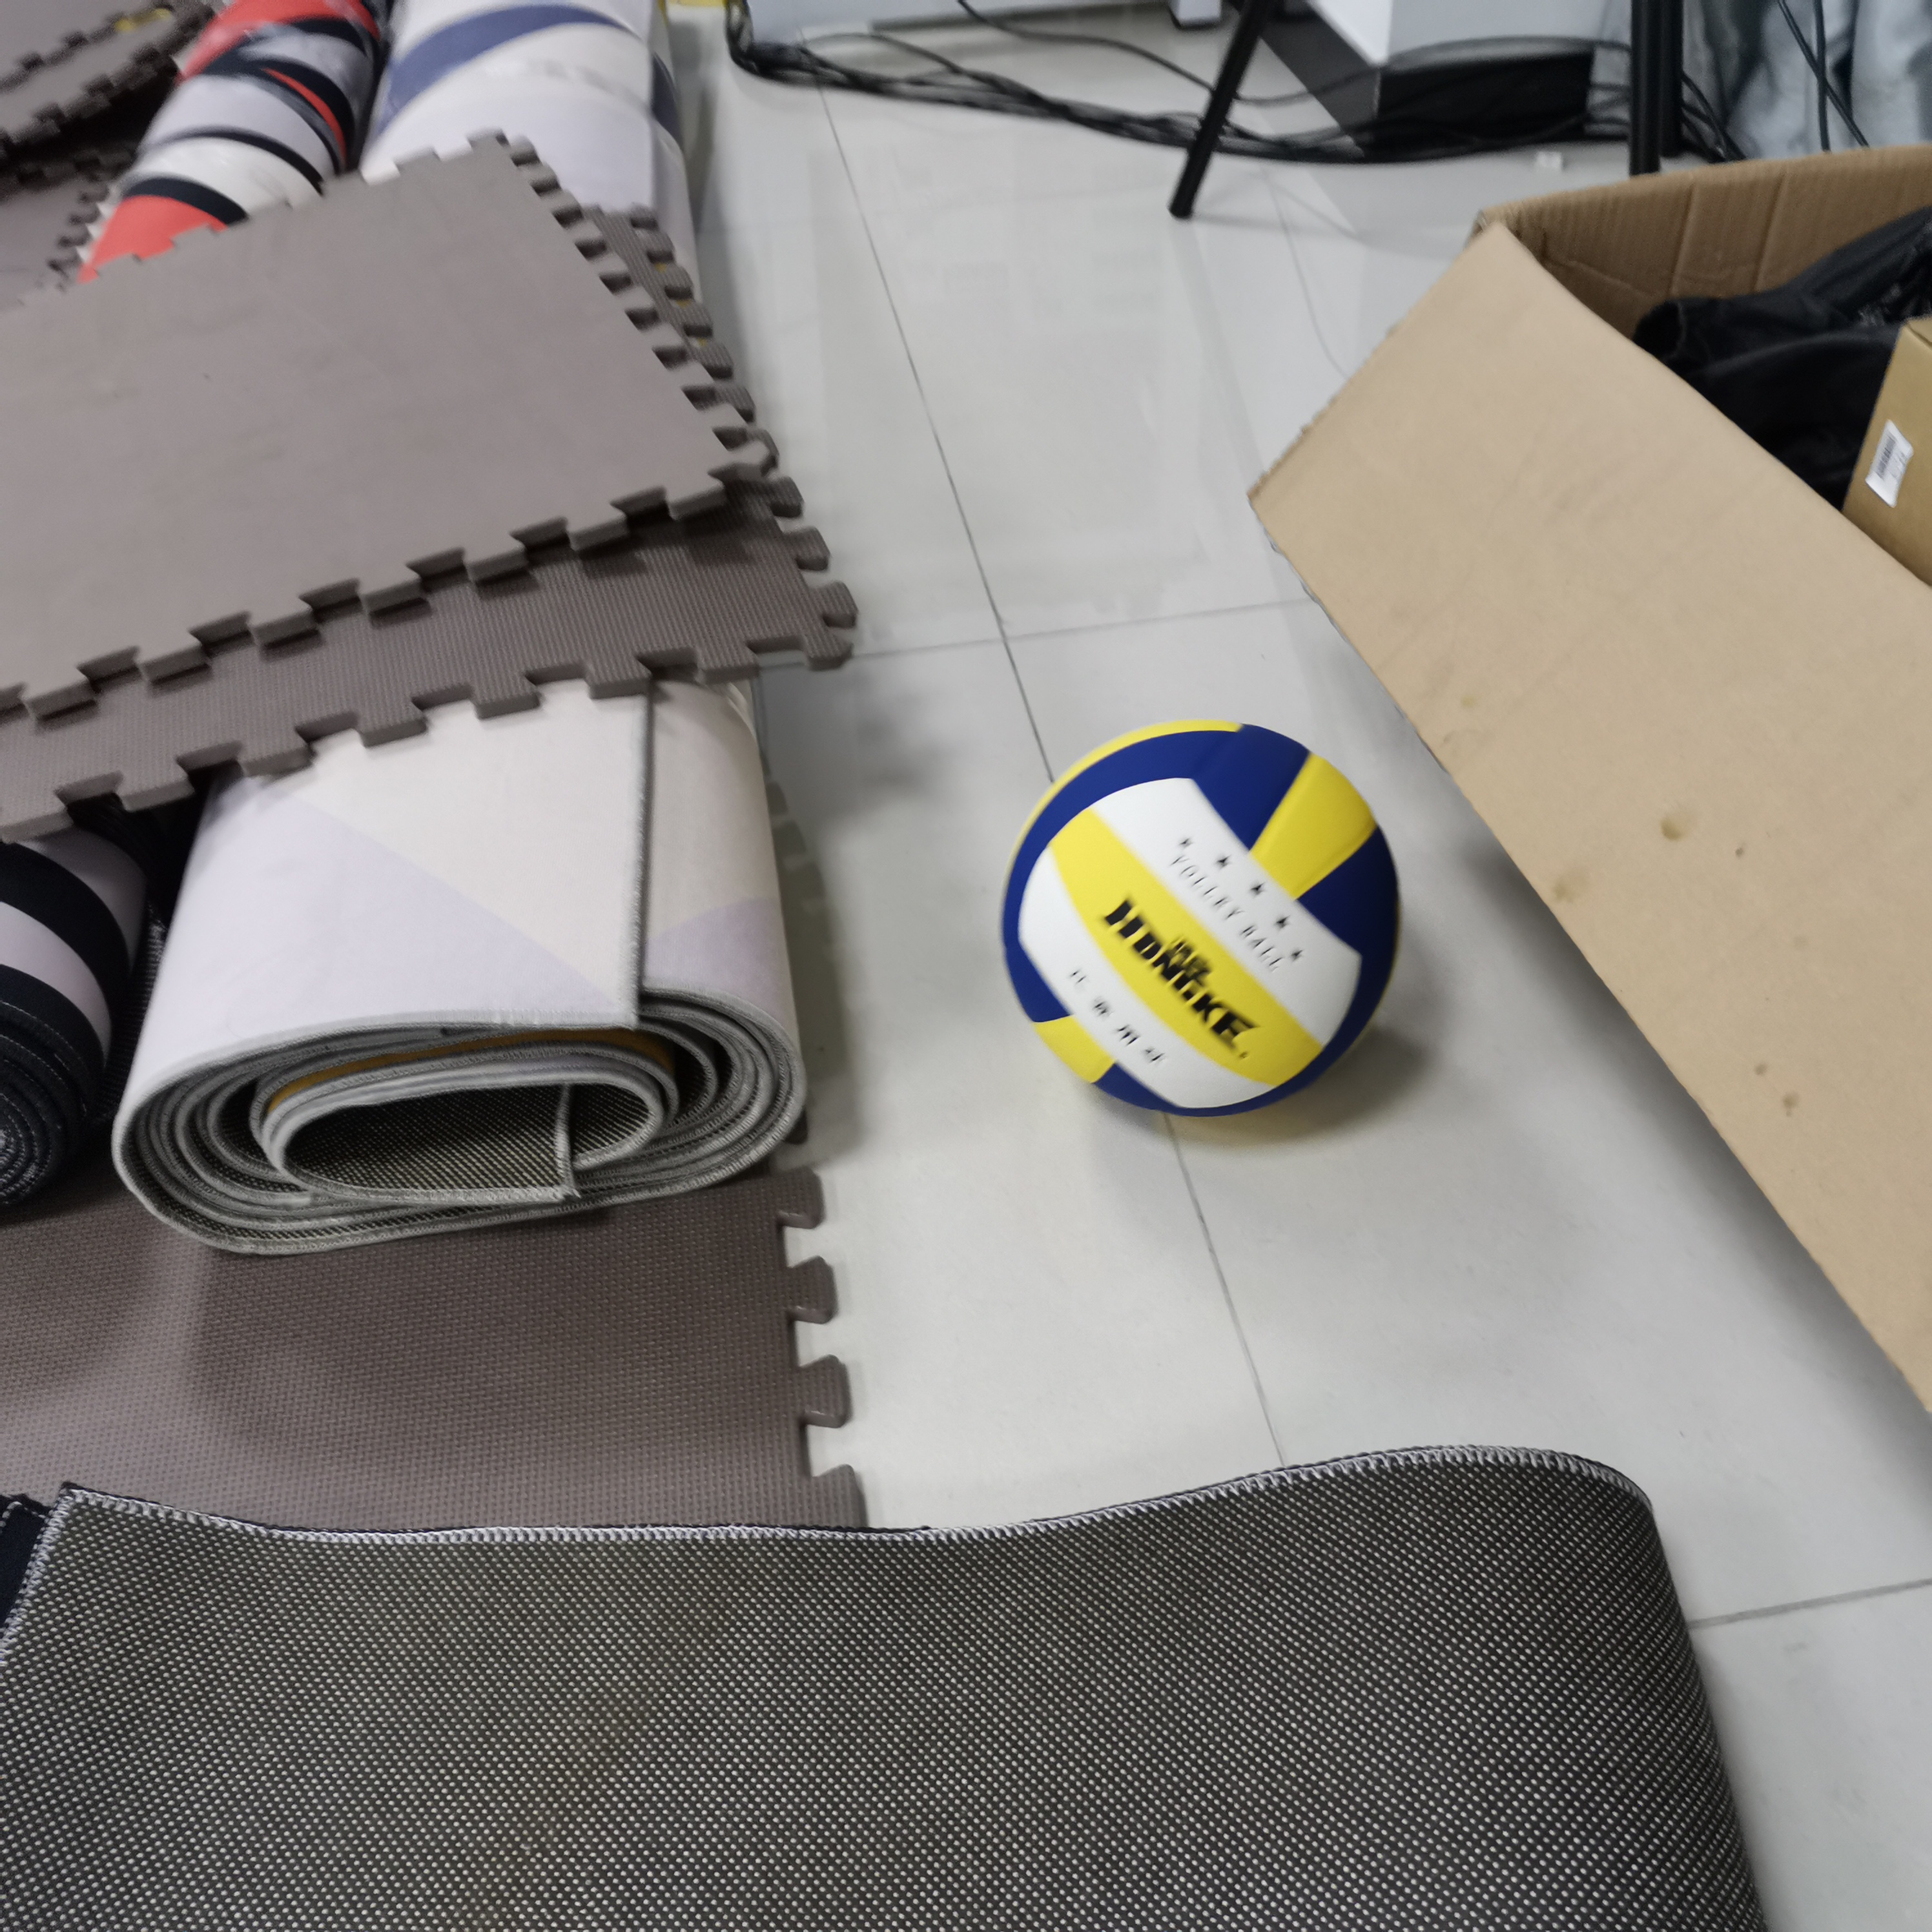volleyball: (1008, 720, 1401, 1127)
